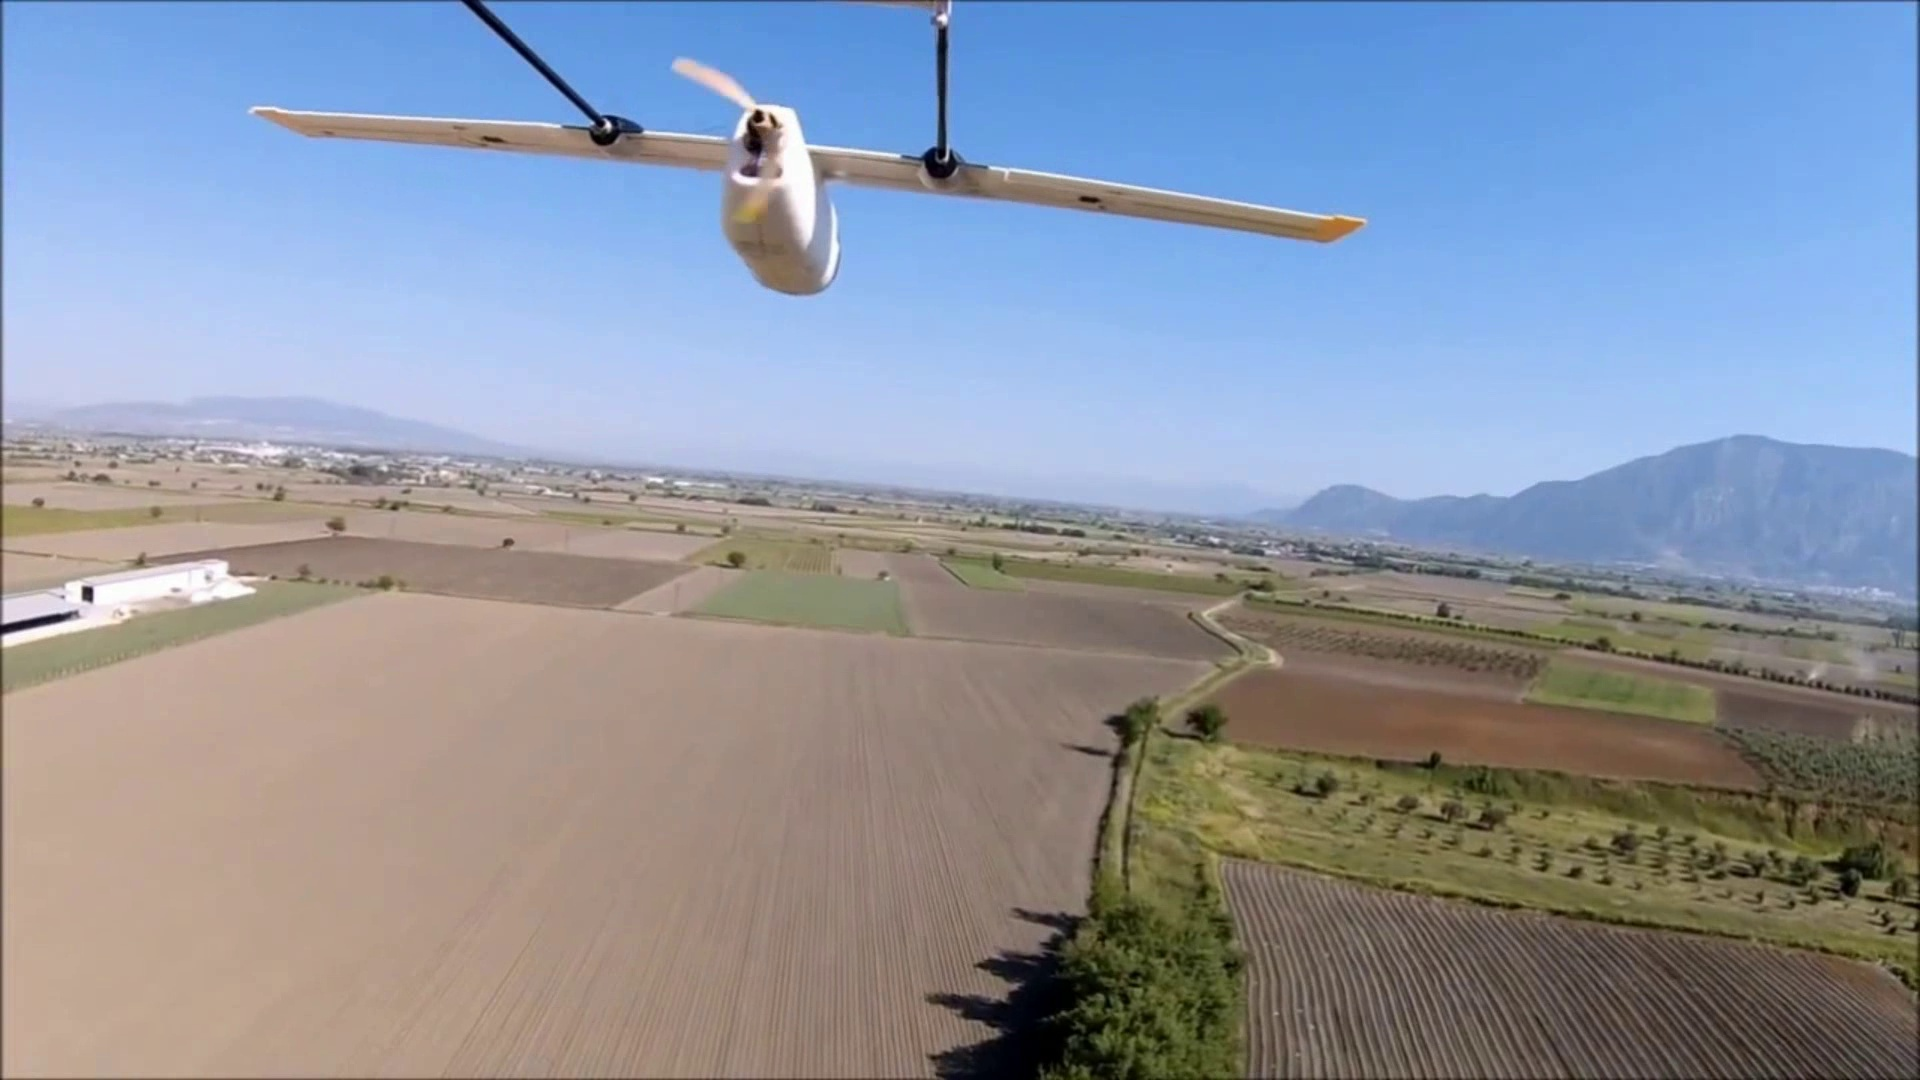airplane: (247, 0, 1362, 295)
